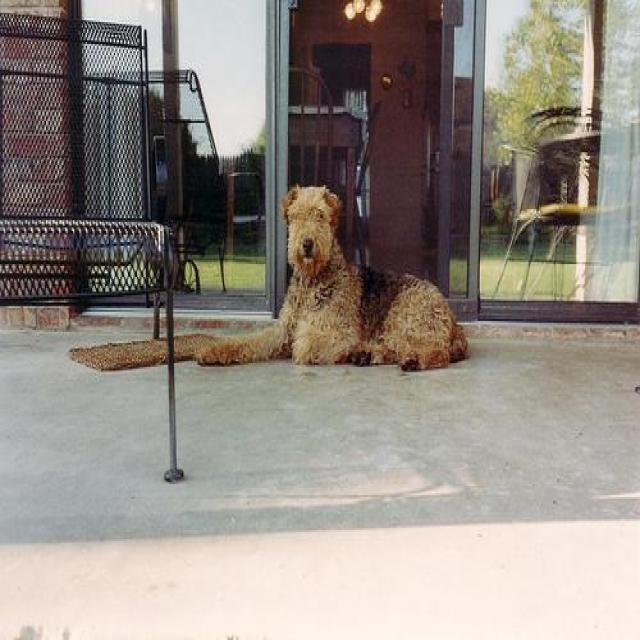airedale: (192, 180, 471, 374)
